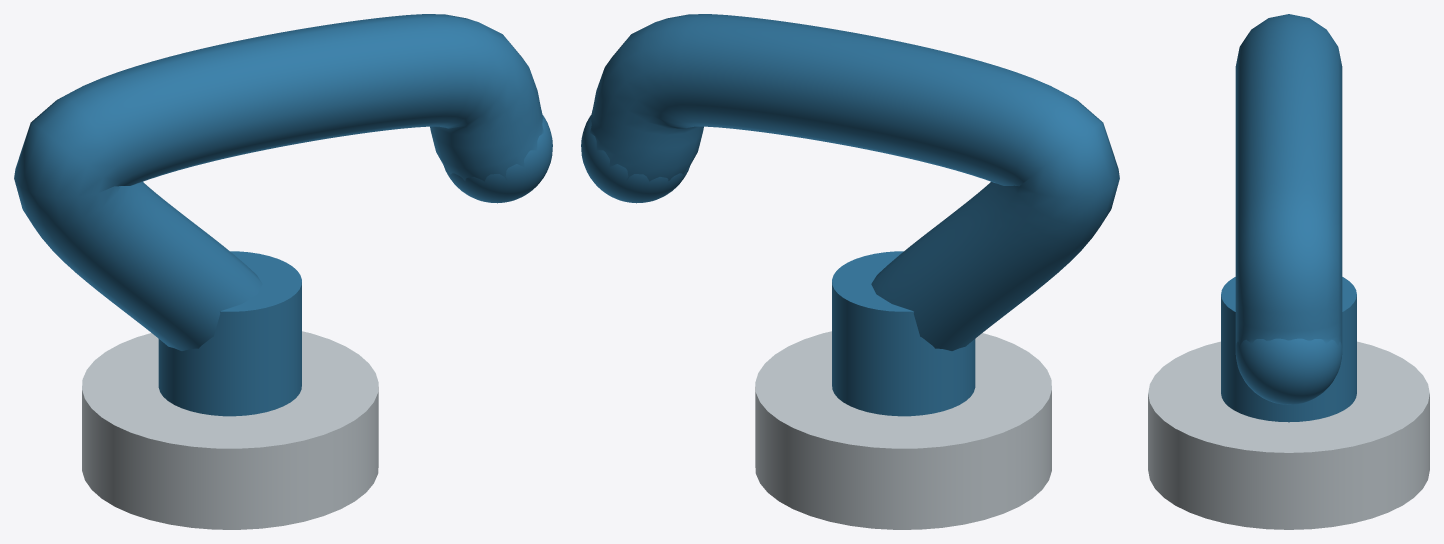
The model's file is curling-club-and-ice-maintenance-replacement-stone-han-e7f18367__31265.glb.
3 views of the same model, side by side, from view 1: azimuth 30°, elevation 25°; view 2: azimuth 150°, elevation 25°; view 3: azimuth 270°, elevation 25° (orthographic). The views are drawn at different scales.
Visible parts, largest first — view 1: replacement-stone-handle; view 2: replacement-stone-handle; view 3: replacement-stone-handle.
Boxes of the visible parts, <box> form: replacement-stone-handle: <box>14,14,552,529</box>; replacement-stone-handle: <box>581,14,1119,529</box>; replacement-stone-handle: <box>1148,14,1429,529</box>.
Size of the model in its own units: 0.2363 by 0.1804 by 0.116.
